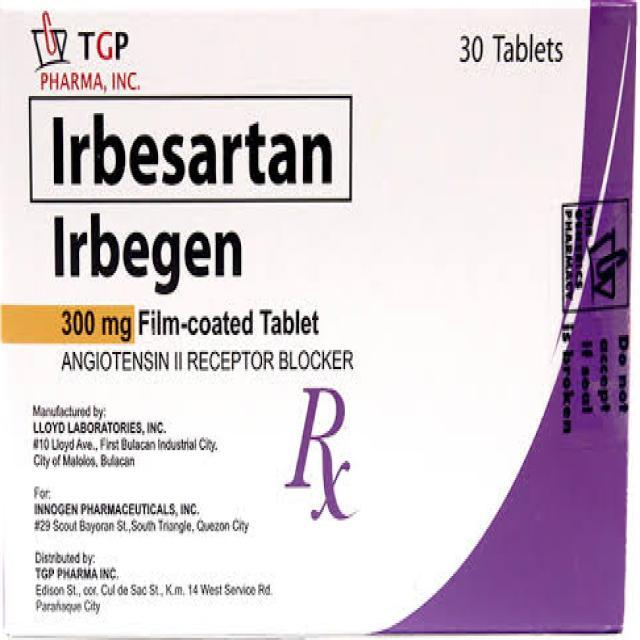drug-name: (49, 109, 338, 193)
